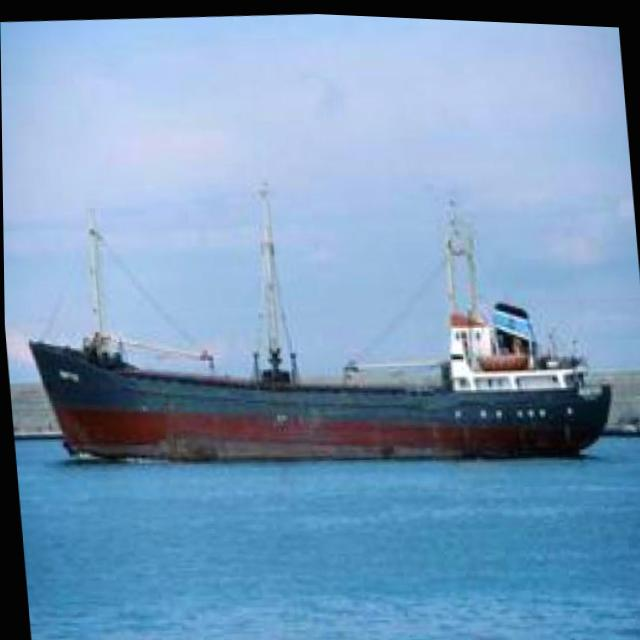ship2: (28, 179, 612, 465)
